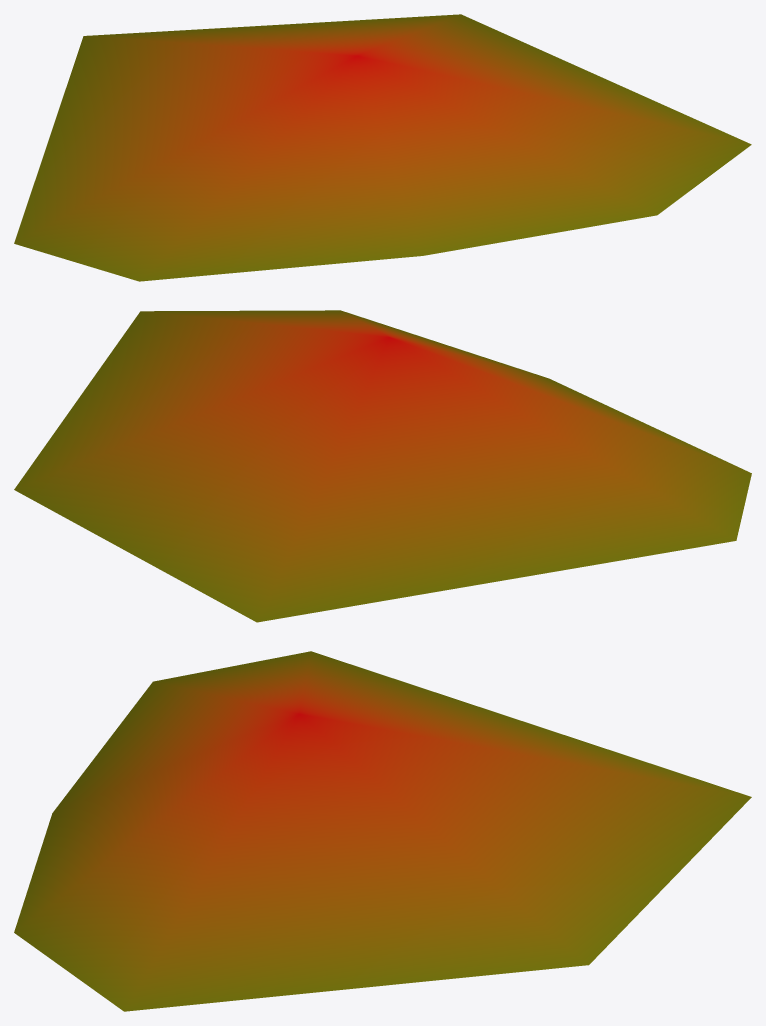
The model's file is Yellow Archangel_LOD4_Var4_wcwmcfvia.fbx.
3 views of the same model, one above another, from view 1: azimuth 30°, elevation 25°; view 2: azimuth 150°, elevation 25°; view 3: azimuth 270°, elevation 25° (orthographic). The views are drawn at different scales.
Visible parts, largest first — view 1: _yluh_Var4_LOD4; view 2: _yluh_Var4_LOD4; view 3: _yluh_Var4_LOD4.
Part boxes in pixels (x1,y1,x2,y2): _yluh_Var4_LOD4: [14, 14, 751, 281]; _yluh_Var4_LOD4: [14, 310, 751, 622]; _yluh_Var4_LOD4: [14, 651, 751, 1011].
Size of the model in its own units: 15.88 by 2.53 by 13.74.
